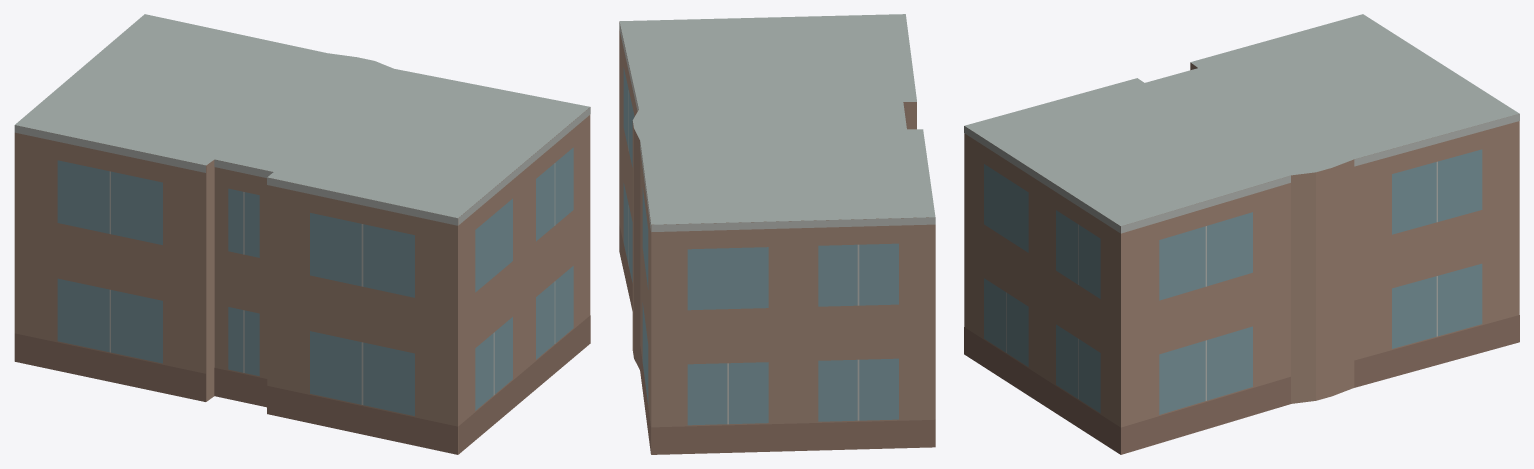
The model's file is survey-upis-32619278.glb.
3 views of the same model, side by side, from view 1: azimuth 30°, elevation 25°; view 2: azimuth 150°, elevation 25°; view 3: azimuth 270°, elevation 25° (orthographic). The views are drawn at different scales.
Visible parts, largest first — view 1: survey-upis-32619278.tmp; view 2: survey-upis-32619278.tmp; view 3: survey-upis-32619278.tmp.
Part boxes in pixels (left/top/right/bottom): survey-upis-32619278.tmp: left=14, top=14, right=590, bottom=454; survey-upis-32619278.tmp: left=619, top=14, right=935, bottom=454; survey-upis-32619278.tmp: left=964, top=14, right=1519, bottom=454.
Size of the model in its own units: 15.15 by 7.6 by 16.75.
